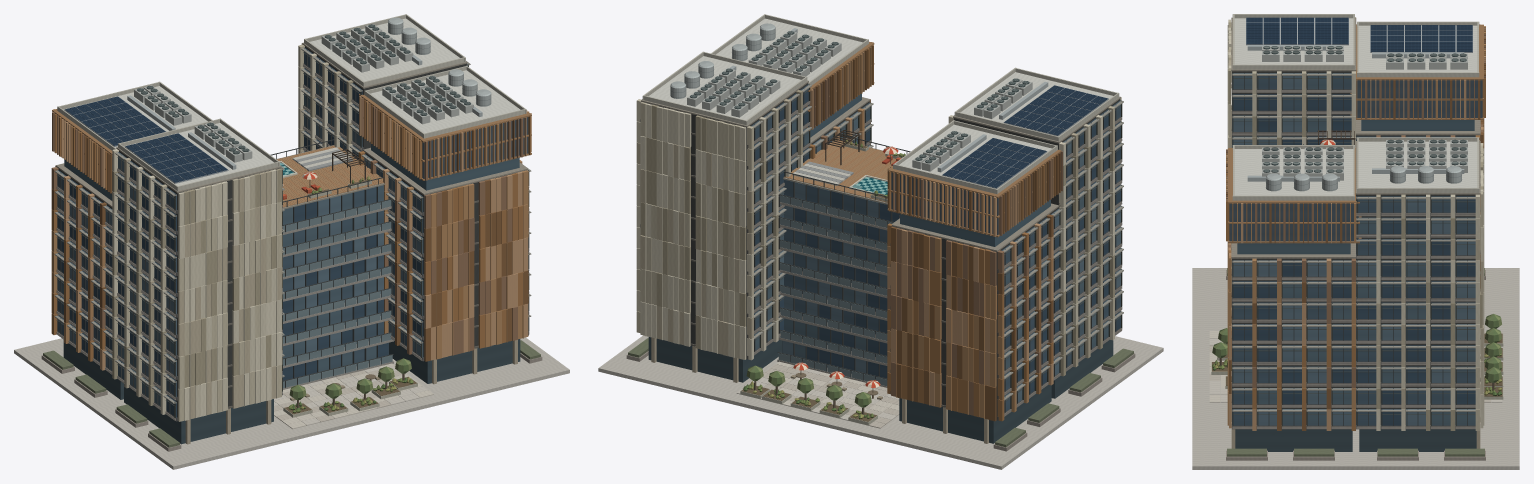
The model's file is macquarie-park-building.glb.
3 renders of one model, left to right at view 1: azimuth 30°, elevation 25°; view 2: azimuth 150°, elevation 25°; view 3: azimuth 270°, elevation 25°, orthographic. The views are drawn at different scales.
Visible parts, largest first — view 1: South wing / east / Mineral finish, North wing / east / Brushed bronze, Glazed connecting wing / Window glass, Forecourt / Mineral finish, North roof / plant / Mineral finish, South wing / east / Window glass, Glazed connecting wing / Mineral finish, North wing / east / rooftop pavilion / Brushed bronze, North roof / plant / Galvanised metal, South roof / plant / Mineral finish, North wing / east / Mineral finish, North wing / west / Mineral finish (+13 smaller); view 2: North wing / west / Mineral finish, South wing / west / Brushed bronze, Glazed connecting wing / Window glass, Forecourt / Mineral finish, South wing / east / Mineral finish, North roof / plant / Mineral finish, South wing / west / Mineral finish, South roof / plant / Mineral finish, South wing / west / rooftop pavilion / Brushed bronze, Glazed connecting wing / Mineral finish, South wing / west / Window glass, North roof / plant / Galvanised metal (+12 smaller); view 3: North wing / west / Mineral finish, North wing / west / Window glass, Forecourt / Mineral finish, North wing / east / Window glass, North wing / east / Mineral finish, North roof / plant / Mineral finish, South roof / plant / Mineral finish, South wing / east / Mineral finish, North roof / plant / Galvanised metal, South roof / plant / Photovoltaic glass, North wing / east / Brushed bronze, North wing / east / rooftop pavilion / Window glass (+10 smaller).
Part boxes in pixels (bbox=[...]): South wing / east / Mineral finish: bbox=[112, 147, 284, 444]; North wing / east / Brushed bronze: bbox=[358, 151, 528, 361]; Glazed connecting wing / Window glass: bbox=[282, 185, 392, 388]; Forecourt / Mineral finish: bbox=[14, 337, 569, 469]; North roof / plant / Mineral finish: bbox=[304, 14, 526, 138]; South wing / east / Window glass: bbox=[118, 152, 281, 444]; Glazed connecting wing / Mineral finish: bbox=[270, 139, 393, 389]; North wing / east / rooftop pavilion / Brushed bronze: bbox=[359, 94, 531, 180]; North roof / plant / Galvanised metal: bbox=[321, 17, 491, 124]; South roof / plant / Mineral finish: bbox=[57, 81, 279, 190]; North wing / east / Mineral finish: bbox=[361, 147, 531, 384]; North wing / west / Mineral finish: bbox=[298, 42, 470, 157]; North wing / west / Mineral finish: bbox=[636, 80, 811, 382]; South wing / west / Brushed bronze: bbox=[887, 214, 1053, 421]; Glazed connecting wing / Window glass: bbox=[778, 179, 899, 385]; Forecourt / Mineral finish: bbox=[598, 335, 1163, 469]; South wing / east / Mineral finish: bbox=[948, 96, 1123, 376]; North roof / plant / Mineral finish: bbox=[642, 14, 868, 125]; South wing / west / Mineral finish: bbox=[890, 203, 1062, 443]; South roof / plant / Mineral finish: bbox=[893, 67, 1119, 193]; South wing / west / rooftop pavilion / Brushed bronze: bbox=[887, 149, 1062, 237]; Glazed connecting wing / Mineral finish: bbox=[777, 134, 910, 387]; South wing / west / Window glass: bbox=[899, 209, 1059, 443]; North roof / plant / Galvanised metal: bbox=[670, 23, 841, 117]; North wing / west / Mineral finish: bbox=[1355, 140, 1484, 448]; North wing / west / Window glass: bbox=[1356, 196, 1476, 451]; Forecourt / Mineral finish: bbox=[1192, 268, 1519, 469]; North wing / east / Window glass: bbox=[1232, 260, 1352, 451]; North wing / east / Mineral finish: bbox=[1231, 243, 1355, 448]; North roof / plant / Mineral finish: bbox=[1232, 137, 1479, 200]; South roof / plant / Mineral finish: bbox=[1232, 14, 1479, 77]; South wing / east / Mineral finish: bbox=[1227, 17, 1356, 326]; North roof / plant / Galvanised metal: bbox=[1247, 140, 1467, 191]; South roof / plant / Photovoltaic glass: bbox=[1246, 17, 1472, 51]; North wing / east / Brushed bronze: bbox=[1227, 241, 1355, 430]; North wing / east / rooftop pavilion / Window glass: bbox=[1229, 203, 1358, 254].
Bounding box in the file's own units: 56 × 36.62 × 39.
Materials: 8 (8 with a texture image).
